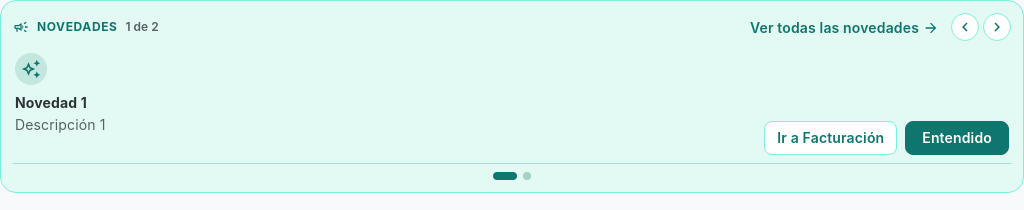
Scenario: las flechas cambian de novedad y vuelven a la primera al final
The image size is (1024, 210).
Step 1. Click the button named "Novedad siguiente" → (997, 27), box [983,13,1011,41]
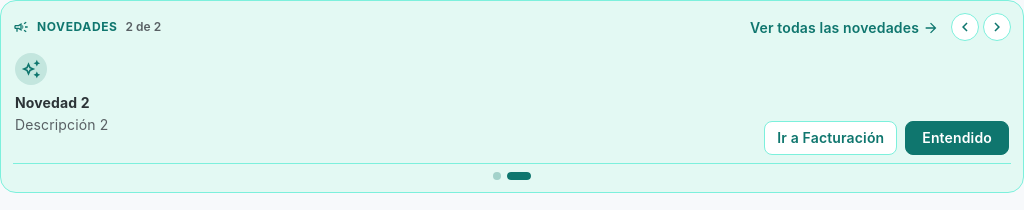
expect the text "2 de 2" is shown: met, box [126,19,161,35]
Step 2. Click the button named "Novedad siguiente" → (997, 27), box [983,13,1011,41]
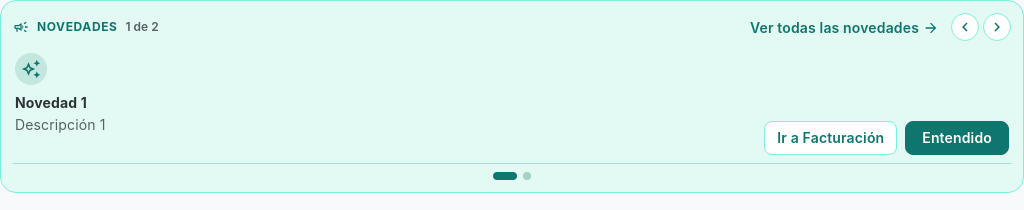
expect the text "1 de 2" is shown: met, box [126,19,159,35]
Step 3. Click the button named "Novedad anterior" → (965, 27), box [951,13,979,41]
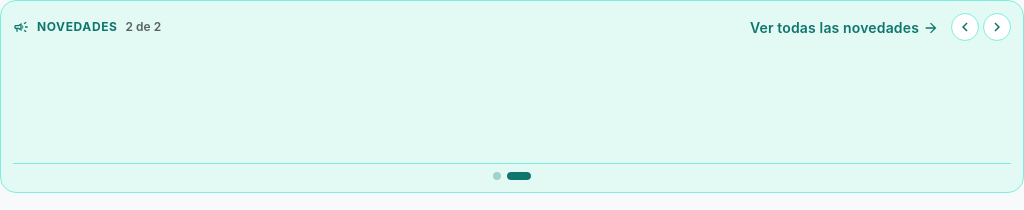
expect the text "2 de 2" is shown: met, box [126,19,161,35]
